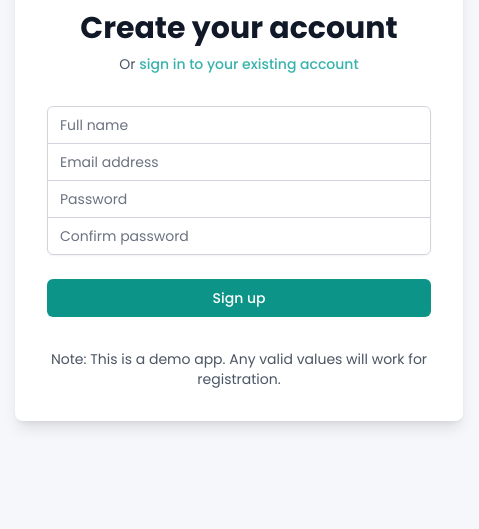
Test: Register Component › shows error when passwords do not match
# Fill form with mismatched passwords
Type "Test User" into the field labelled "Full name".
click(239, 125); type("Test User")  # box 47,106 -> 431,144
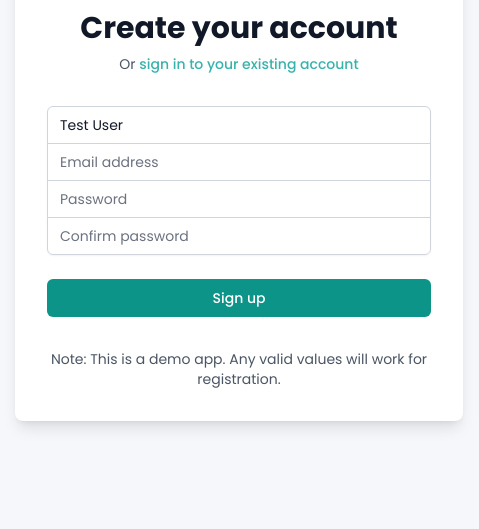
Type "test@example.com" into the field labelled "Email address".
click(239, 162); type("test@example.com")  # box 47,143 -> 431,181
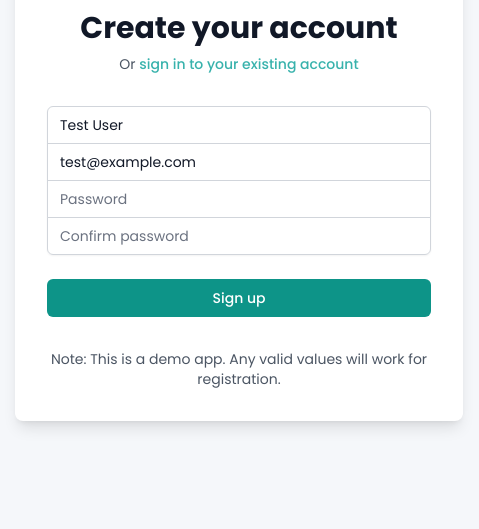
Type "password123" into the password field labelled "Password".
click(239, 199); type("password123")  # box 47,180 -> 431,218
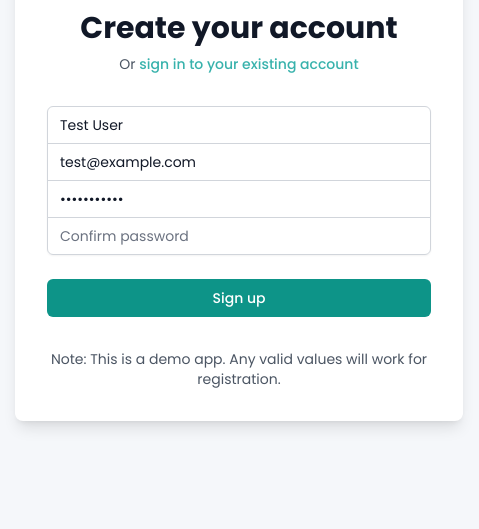
Type "different123" into the password field labelled "Confirm password".
click(239, 236); type("different123")  # box 47,217 -> 431,255
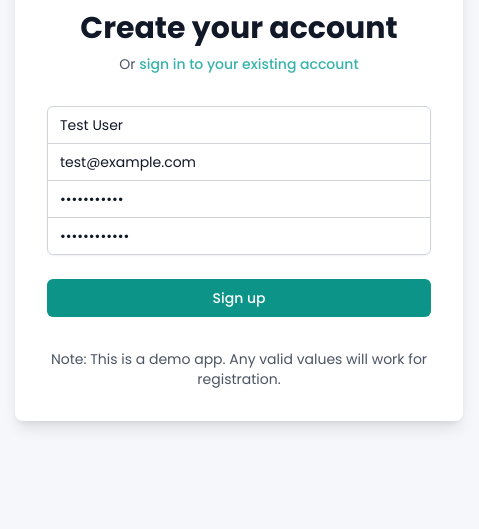
Click the button "Sign up".
click(239, 298)  # box 47,279 -> 431,317
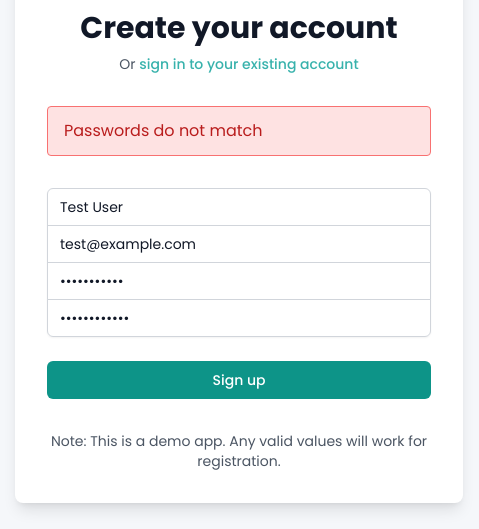
Expected: the text "Passwords do not match" is shown, 64,119 -> 262,142
